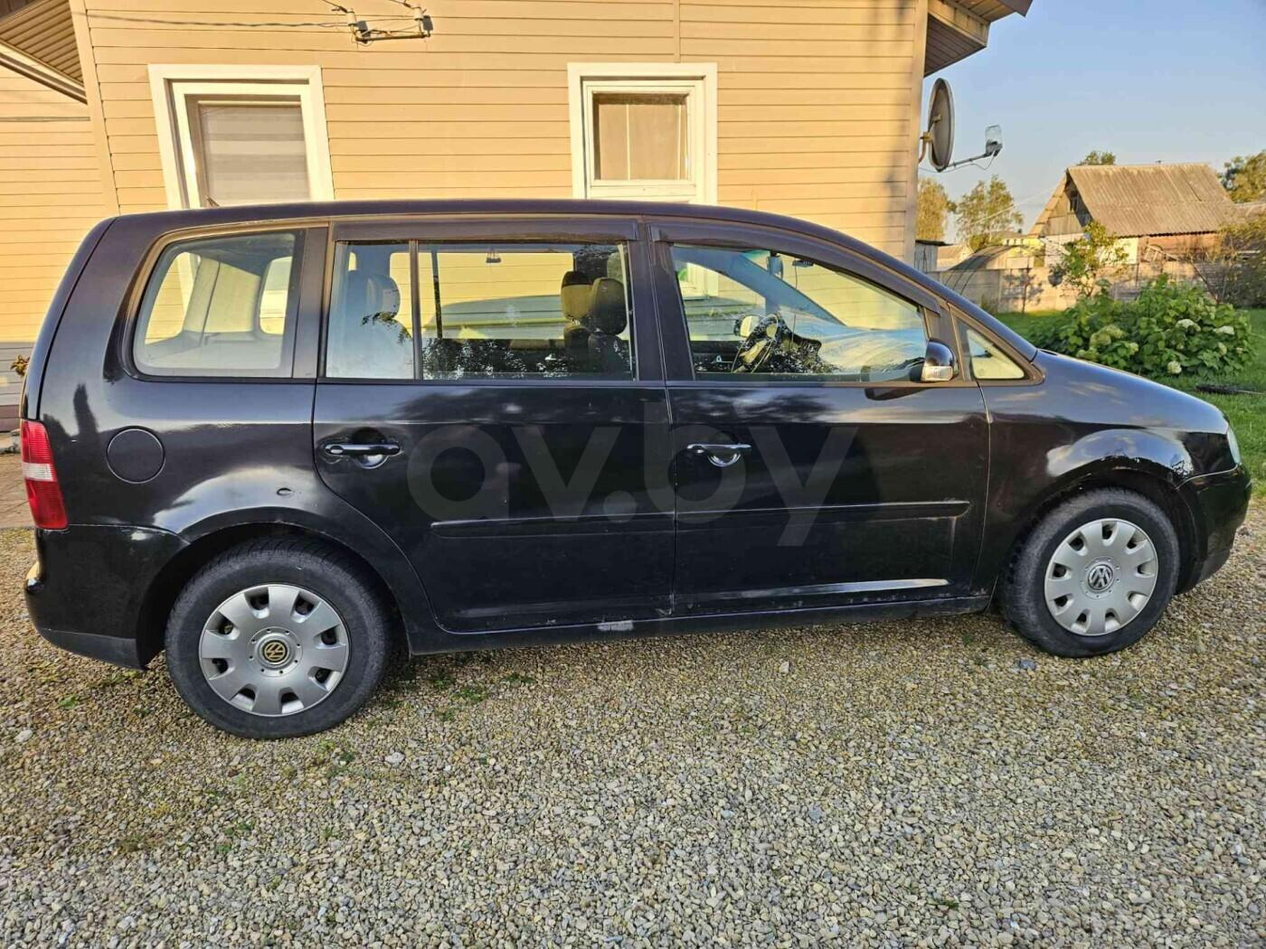Touran_2003-2006: (17, 196, 1253, 741)
